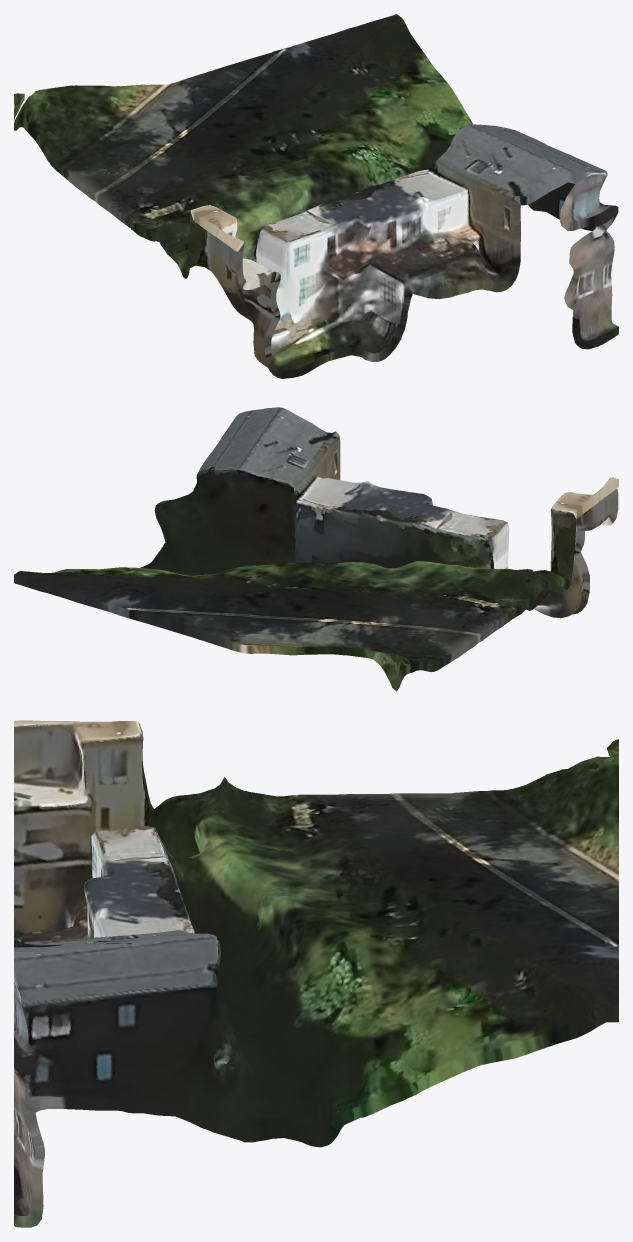
The model's file is z20-167756-405195-h0-yup-uvflip-v3-world.glb.
3 views of the same model, one above another, from view 1: azimuth 30°, elevation 25°; view 2: azimuth 150°, elevation 25°; view 3: azimuth 270°, elevation 25° (orthographic). The views are drawn at different scales.
Size of the model in its own units: 30.16 by 14.48 by 30.32.
Materials: 1 (1 with a texture image).
